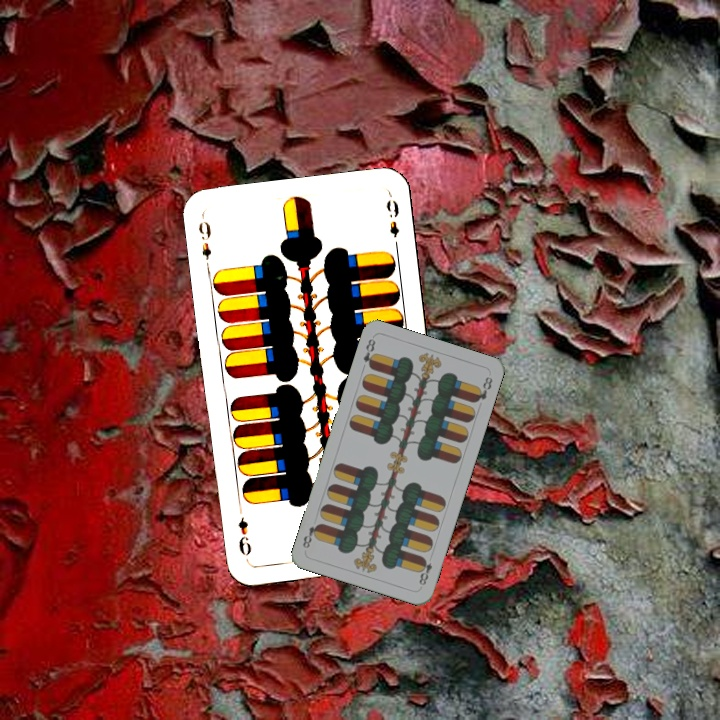E8: (359, 335, 379, 372), (415, 554, 435, 590)
E9: (194, 213, 214, 263)
